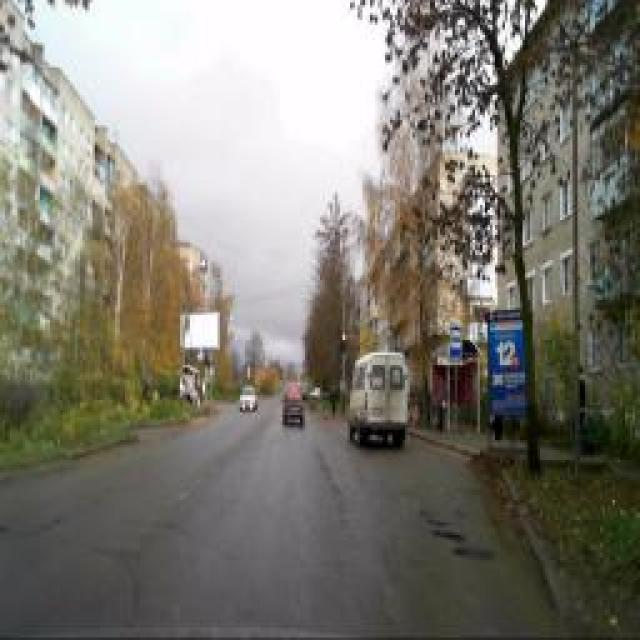sign: (197, 345, 205, 363)
